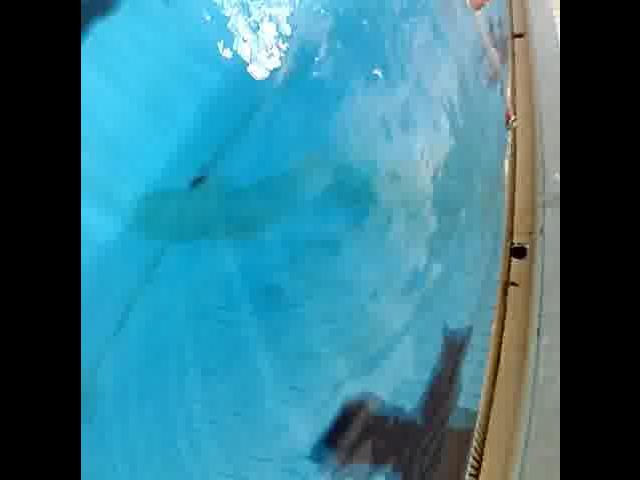Can: (496, 81, 520, 141)
